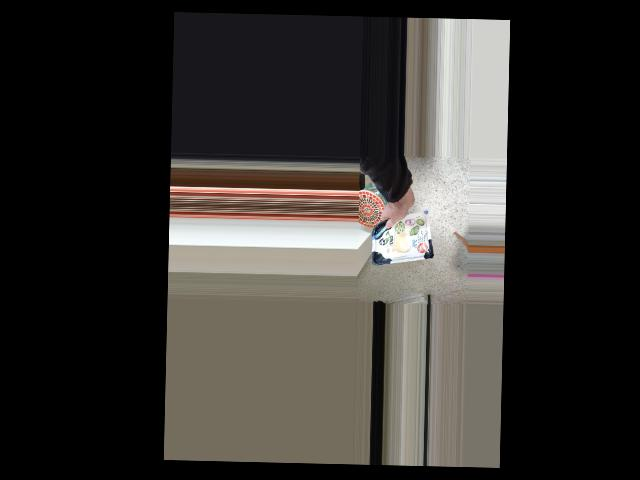cheese: (382, 200, 433, 250)
